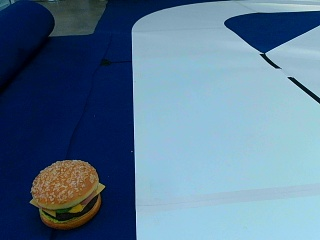burger: (29, 157, 104, 228)
